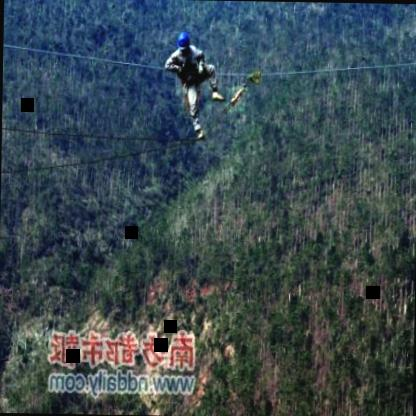helmet: (175, 27, 191, 54)
